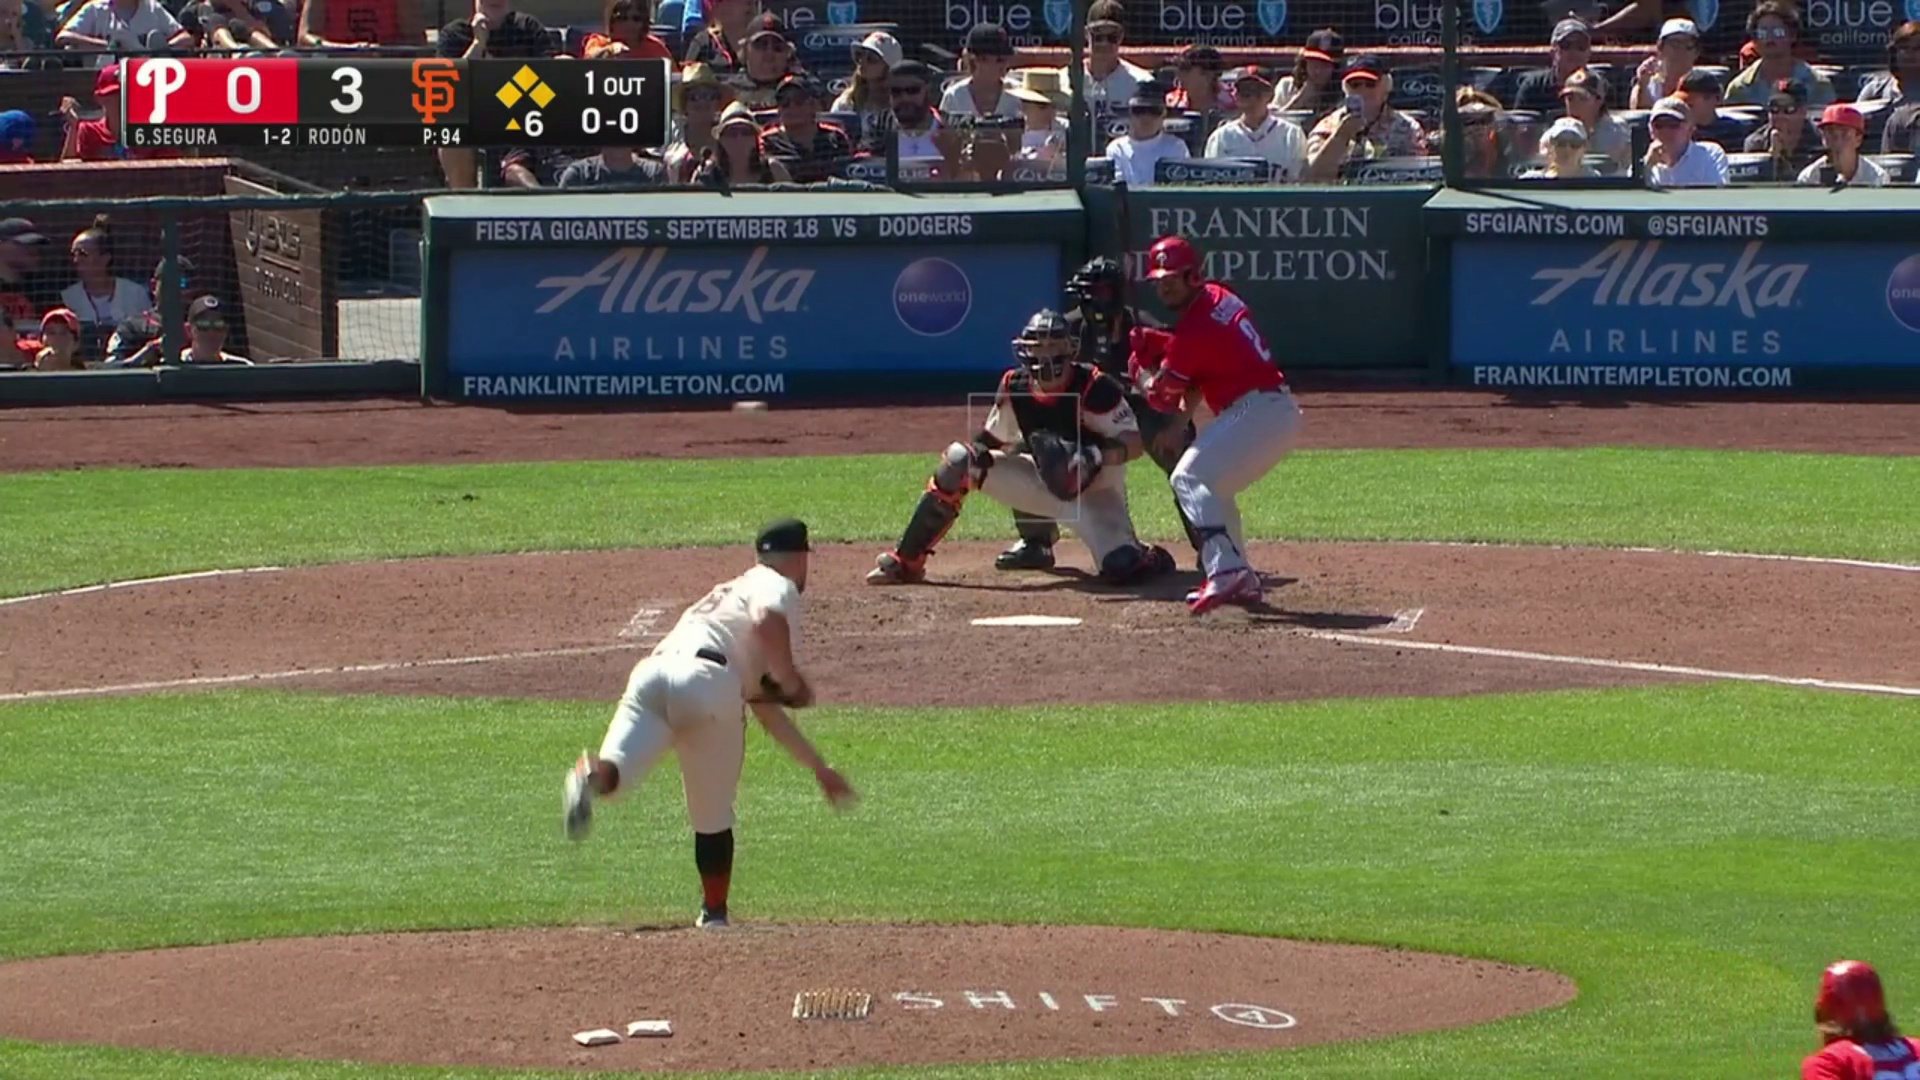baseball: (732, 400, 767, 419)
